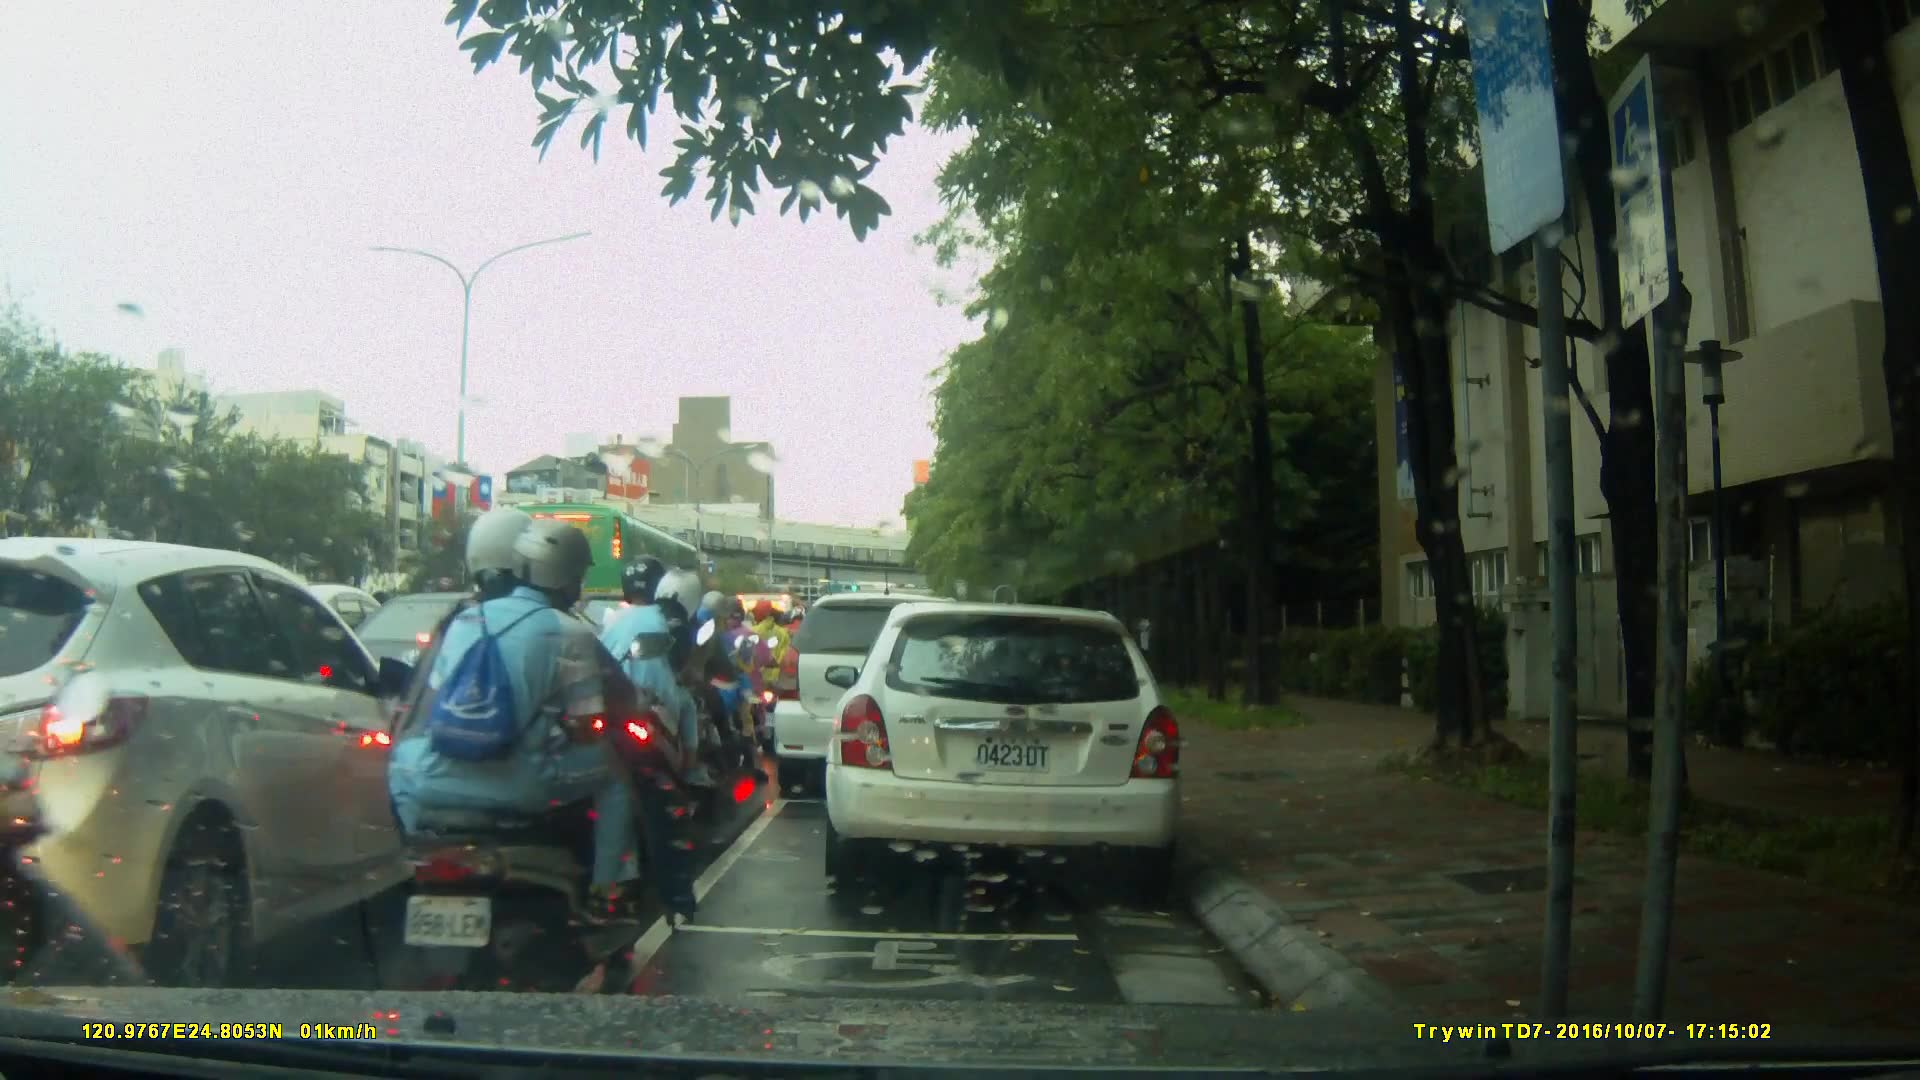rider: (383, 507, 682, 1021), (590, 562, 716, 841), (686, 589, 768, 778), (665, 583, 734, 789), (704, 598, 776, 764), (749, 598, 797, 737)
vehicle: (3, 536, 460, 987), (831, 592, 1196, 897), (312, 590, 629, 776), (772, 590, 999, 803), (496, 501, 712, 636)
